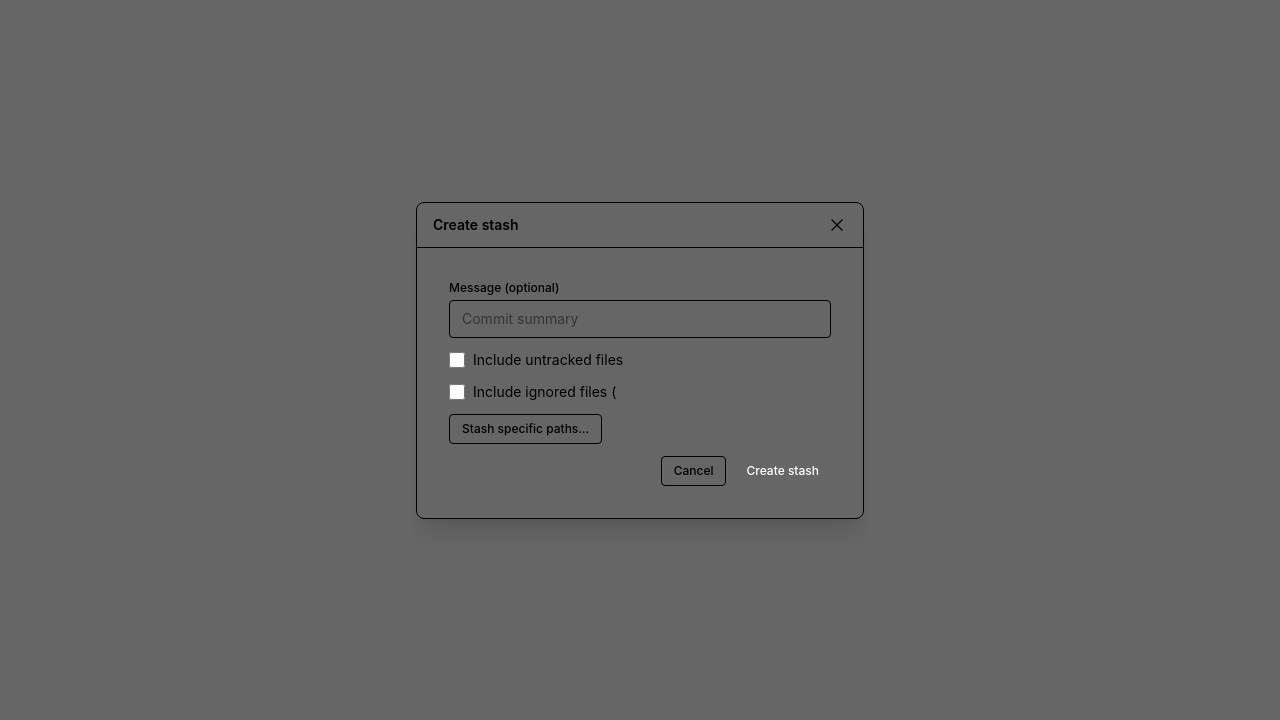
Test case: StashPushModal › virtualizes long picked path lists
This screenshot has width=1280, height=720.
Click the button "Stash specific paths…": [526, 428] box 449,414 -> 602,444
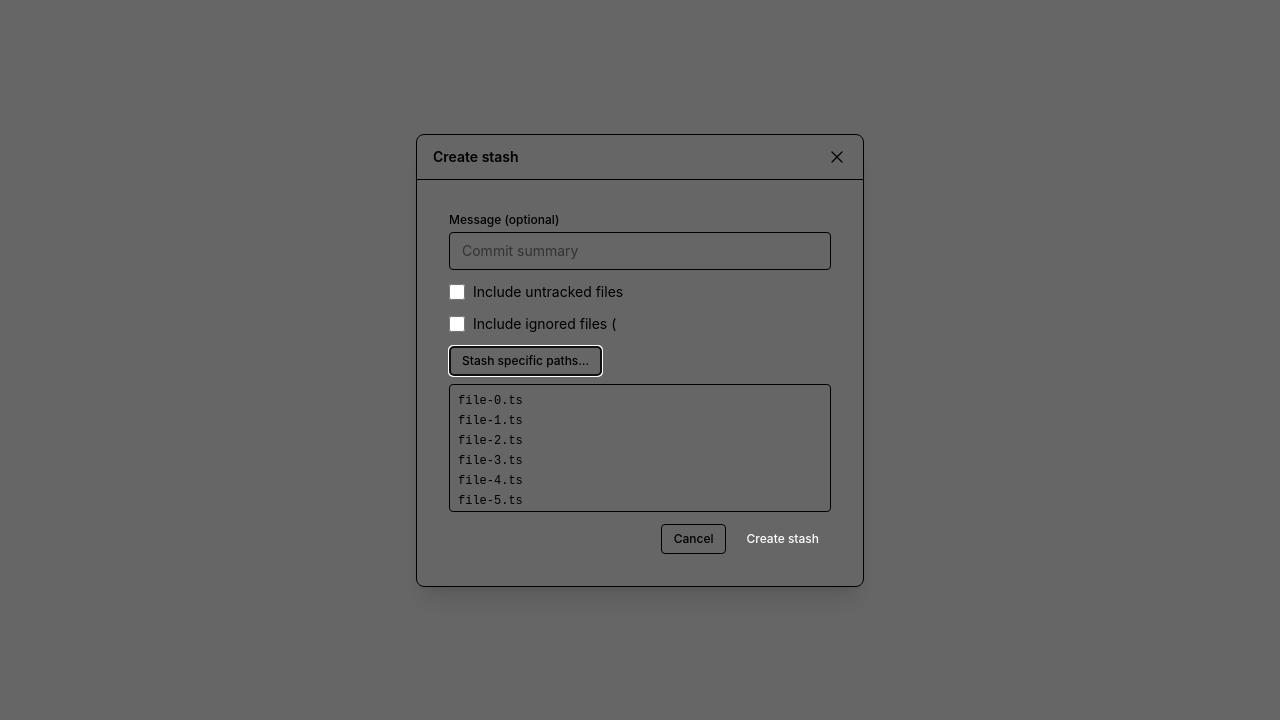
Check: the text "file-0.ts" is shown, box 458,394 -> 523,408
